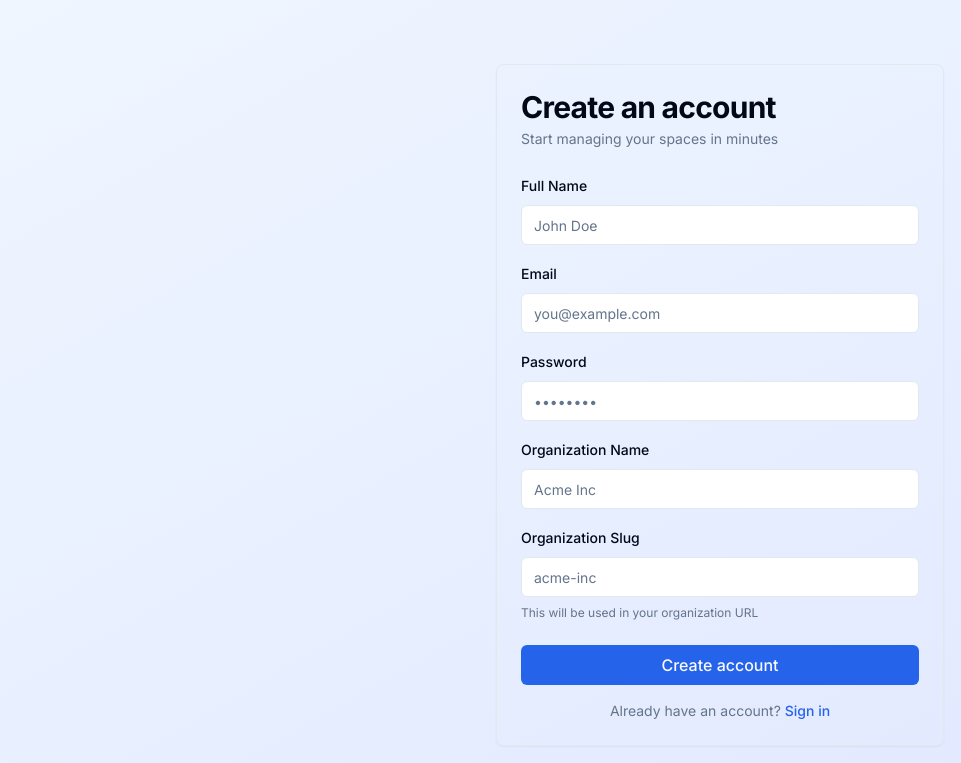
Test case: Authentication Integration Tests › Register Flow › should auto-generate slug from organization name
The width and height of the screenshot is (961, 763).
In the field labelled "Organization Name": (720, 489) [521,469,919,509], type "My Test Org"
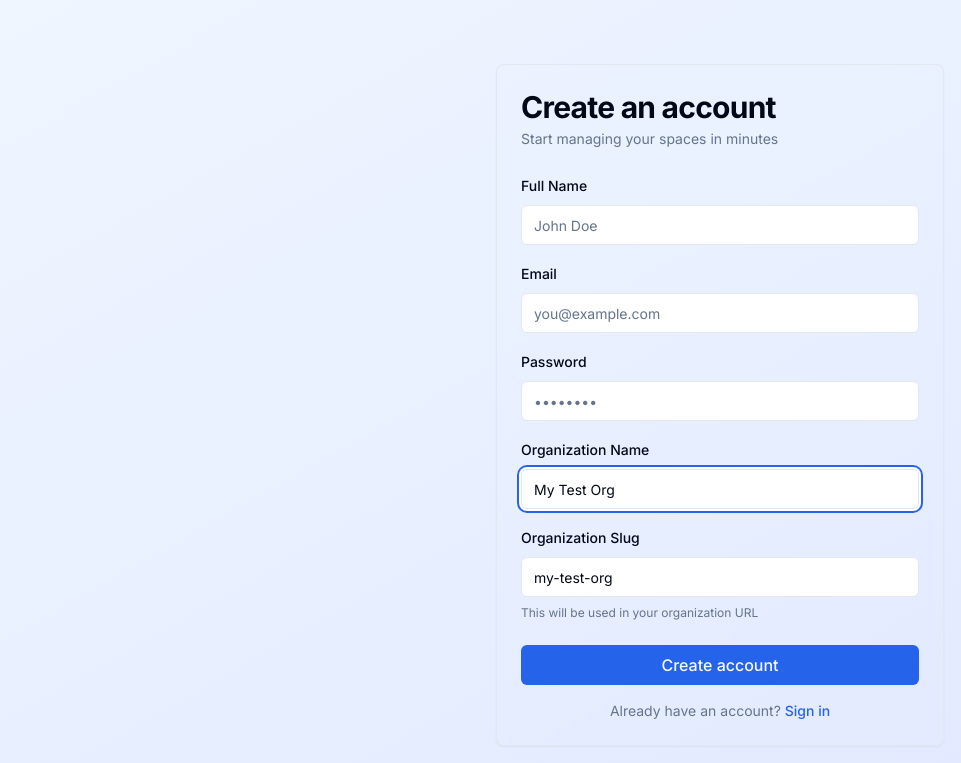
expect the field labelled "Organization Slug" holds "my-test-org": met, box [521,557,919,597]
